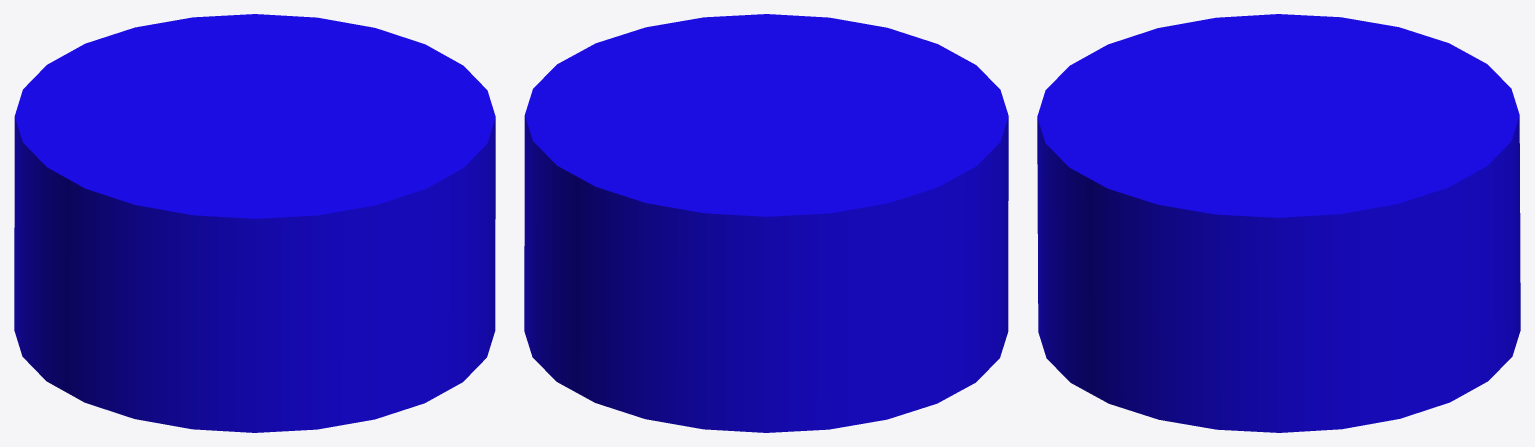
Rendered from SM_BlueButton.FBX.
3 renders of one model, left to right at view 1: azimuth 30°, elevation 25°; view 2: azimuth 150°, elevation 25°; view 3: azimuth 270°, elevation 25°, orthographic.
Visible parts, largest first — view 1: SM_BlueButton; view 2: SM_BlueButton; view 3: SM_BlueButton.
Boxes of the visible parts, x1=… form: SM_BlueButton: x1=14, y1=14, x2=495, y2=432; SM_BlueButton: x1=524, y1=14, x2=1008, y2=432; SM_BlueButton: x1=1037, y1=14, x2=1520, y2=432.
Bounding box in the file's own units: 10 × 4.96 × 10.02.
